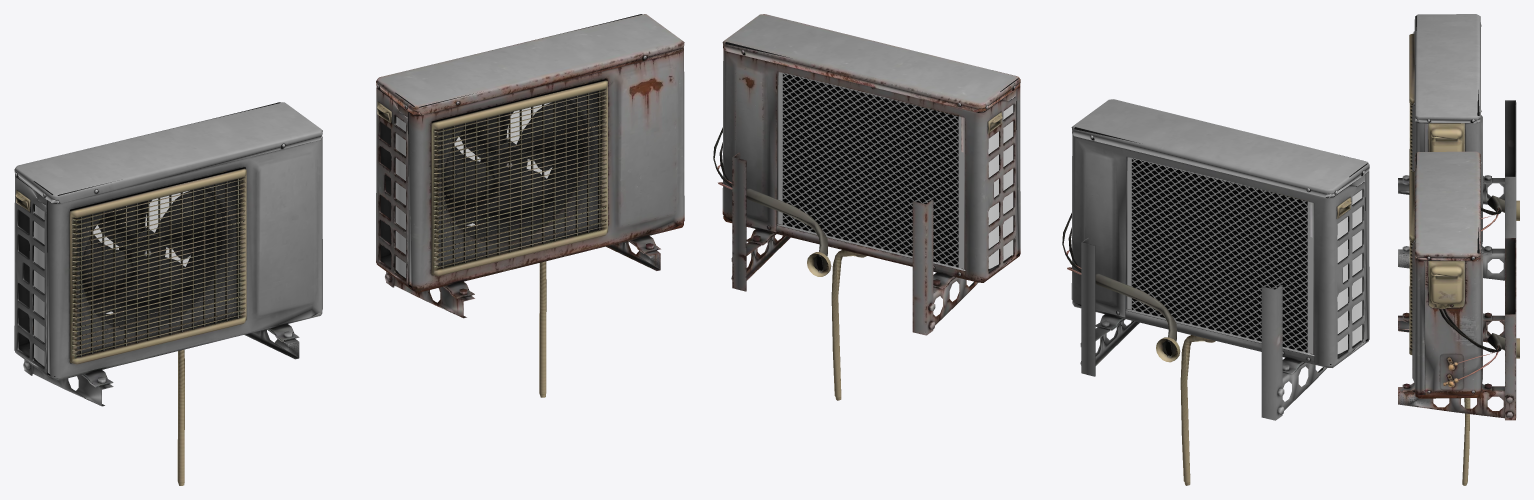
File: exterior_aircon_unit.glb
3 views of the same model, side by side, from view 1: azimuth 30°, elevation 25°; view 2: azimuth 150°, elevation 25°; view 3: azimuth 270°, elevation 25° (orthographic). The views are drawn at different scales.
Parts seen in each view (by area): view 1: exterior_aircon_unit_rusted, exterior_aircon_unit; view 2: exterior_aircon_unit_rusted, exterior_aircon_unit; view 3: exterior_aircon_unit_rusted, exterior_aircon_unit.
Part boxes in pixels (bbox=[...]): exterior_aircon_unit_rusted: bbox=[376, 14, 684, 397]; exterior_aircon_unit: bbox=[14, 102, 322, 485]; exterior_aircon_unit_rusted: bbox=[713, 14, 1020, 400]; exterior_aircon_unit: bbox=[1062, 99, 1369, 485]; exterior_aircon_unit_rusted: bbox=[1398, 151, 1519, 485]; exterior_aircon_unit: bbox=[1398, 14, 1519, 280].
Size of the model in its own units: 1.8 by 0.9279 by 0.3742.
Materials: 4 (4 with a texture image).
